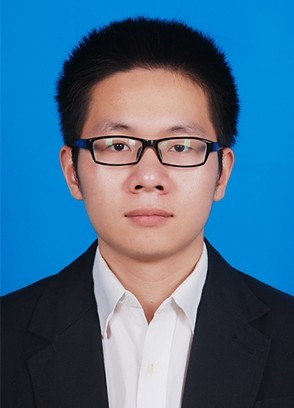unmask: (81, 92, 228, 249)
